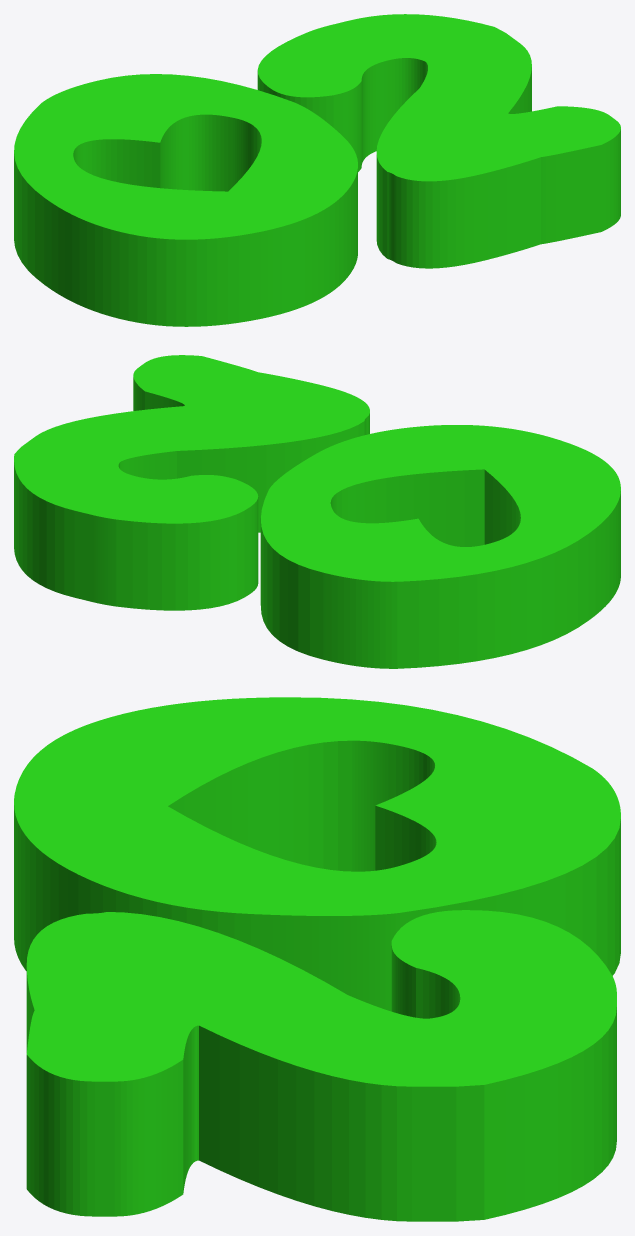
File: original.fbx
The picture shows the model from 3 angles, top to bottom: view 1: azimuth 30°, elevation 25°; view 2: azimuth 150°, elevation 25°; view 3: azimuth 270°, elevation 25°; orthographic projection. The views are drawn at different scales.
Visible parts, largest first — view 1: Text; view 2: Text; view 3: Text.
Boxes of the visible parts, x1,y1,x2,y2 form: Text: (14,14,620,326); Text: (14,355,620,668); Text: (14,697,620,1221).
Size of the model in its own units: 95.04 by 15.37 by 62.62.
